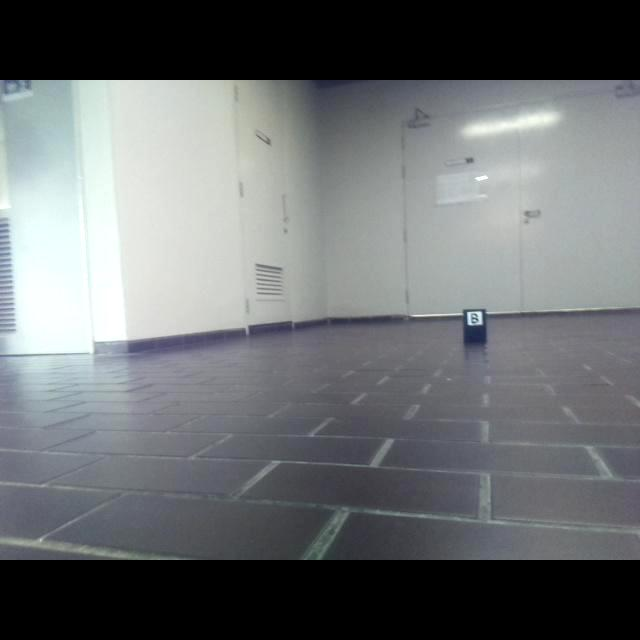B: (470, 313, 480, 324)
